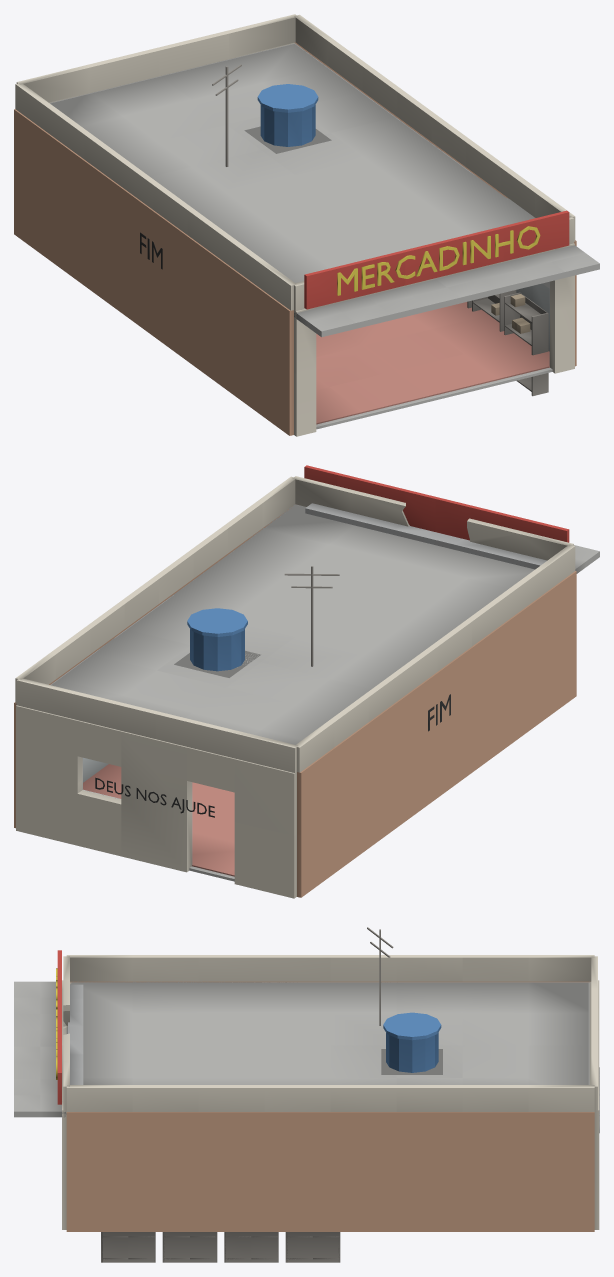
The model's file is sobrado_6.glb.
3 views of the same model, one above another, from view 1: azimuth 30°, elevation 25°; view 2: azimuth 150°, elevation 25°; view 3: azimuth 270°, elevation 25° (orthographic). The views are drawn at different scales.
Parts seen in each view (by area): view 1: longe, ext, dentro, detalhe; view 2: longe, ext, detalhe, dentro; view 3: longe, ext, dentro, detalhe.
Part boxes in pixels (bbox=[...]): longe: bbox=[15, 14, 599, 337]; ext: bbox=[14, 42, 576, 436]; dentro: bbox=[50, 43, 552, 429]; detalhe: bbox=[140, 64, 331, 269]; longe: bbox=[15, 465, 599, 772]; ext: bbox=[14, 504, 576, 898]; detalhe: bbox=[95, 566, 450, 817]; dentro: bbox=[50, 551, 234, 881]; longe: bbox=[14, 950, 597, 1117]; ext: bbox=[62, 980, 599, 1231]; dentro: bbox=[101, 982, 589, 1262]; detalhe: bbox=[367, 927, 599, 1132].
Size of what is drawn, in the model's own units: 7.23 by 6.29 by 13.32.
